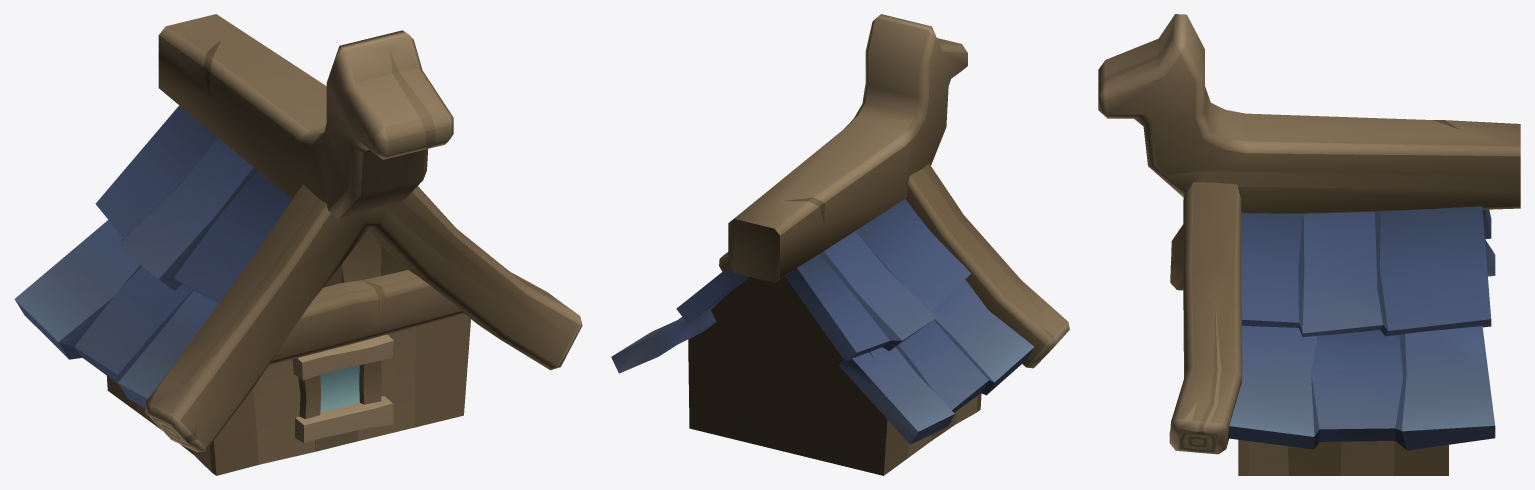
The model's file is house_roof.fbx.
3 views of the same model, side by side, from view 1: azimuth 30°, elevation 25°; view 2: azimuth 150°, elevation 25°; view 3: azimuth 270°, elevation 25° (orthographic). The views are drawn at different scales.
Parts seen in each view (by area): view 1: house_roof; view 2: house_roof; view 3: house_roof.
Part boxes in pixels (x1=…): house_roof: x1=14, y1=14, x2=582, y2=475; house_roof: x1=611, y1=14, x2=1069, y2=475; house_roof: x1=1098, y1=14, x2=1520, y2=475.
Bounding box in the file's own units: 427 × 420 × 408.
